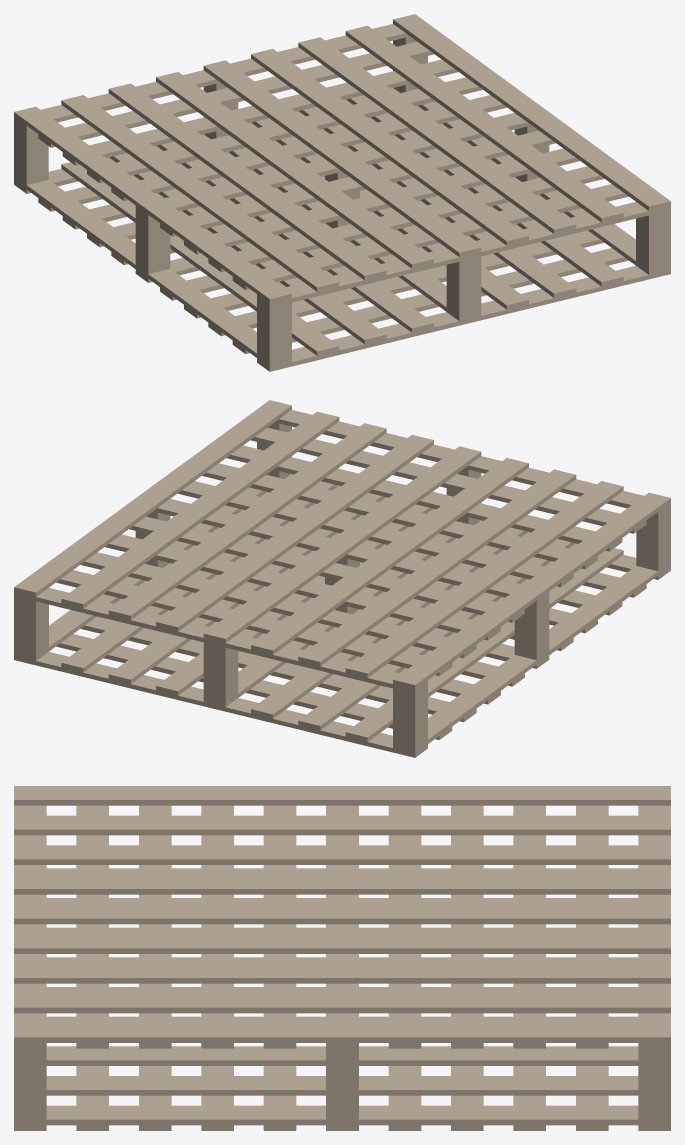
Rendered from 3dcodebench_Pallet_seed0.glb.
3 views of the same model, one above another, from view 1: azimuth 30°, elevation 25°; view 2: azimuth 150°, elevation 25°; view 3: azimuth 270°, elevation 25° (orthographic). The views are drawn at different scales.
Visible parts, largest first — view 1: object; view 2: object; view 3: object.
Boxes of the visible parts, left/top/right/bottom form: object: left=14, top=14, right=670, bottom=371; object: left=14, top=400, right=670, bottom=757; object: left=14, top=786, right=670, bottom=1130.
Bounding box in the file's own units: 1.26 × 0.2191 × 1.4.
